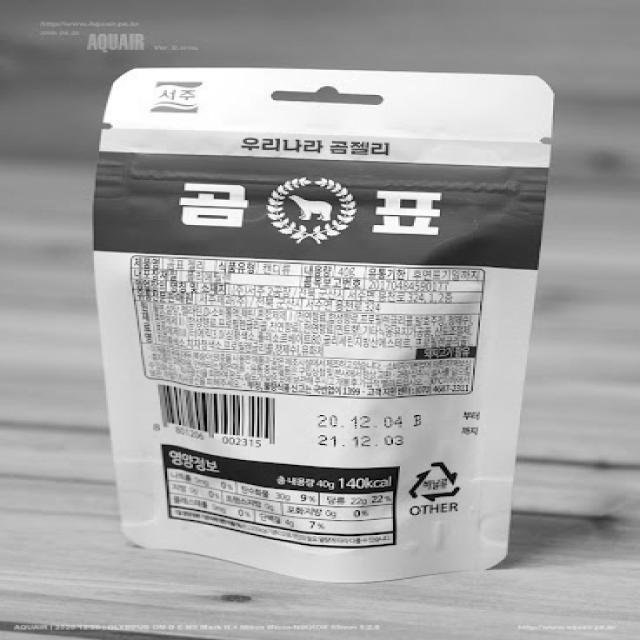Nutrition Label: (160, 442, 415, 568)
